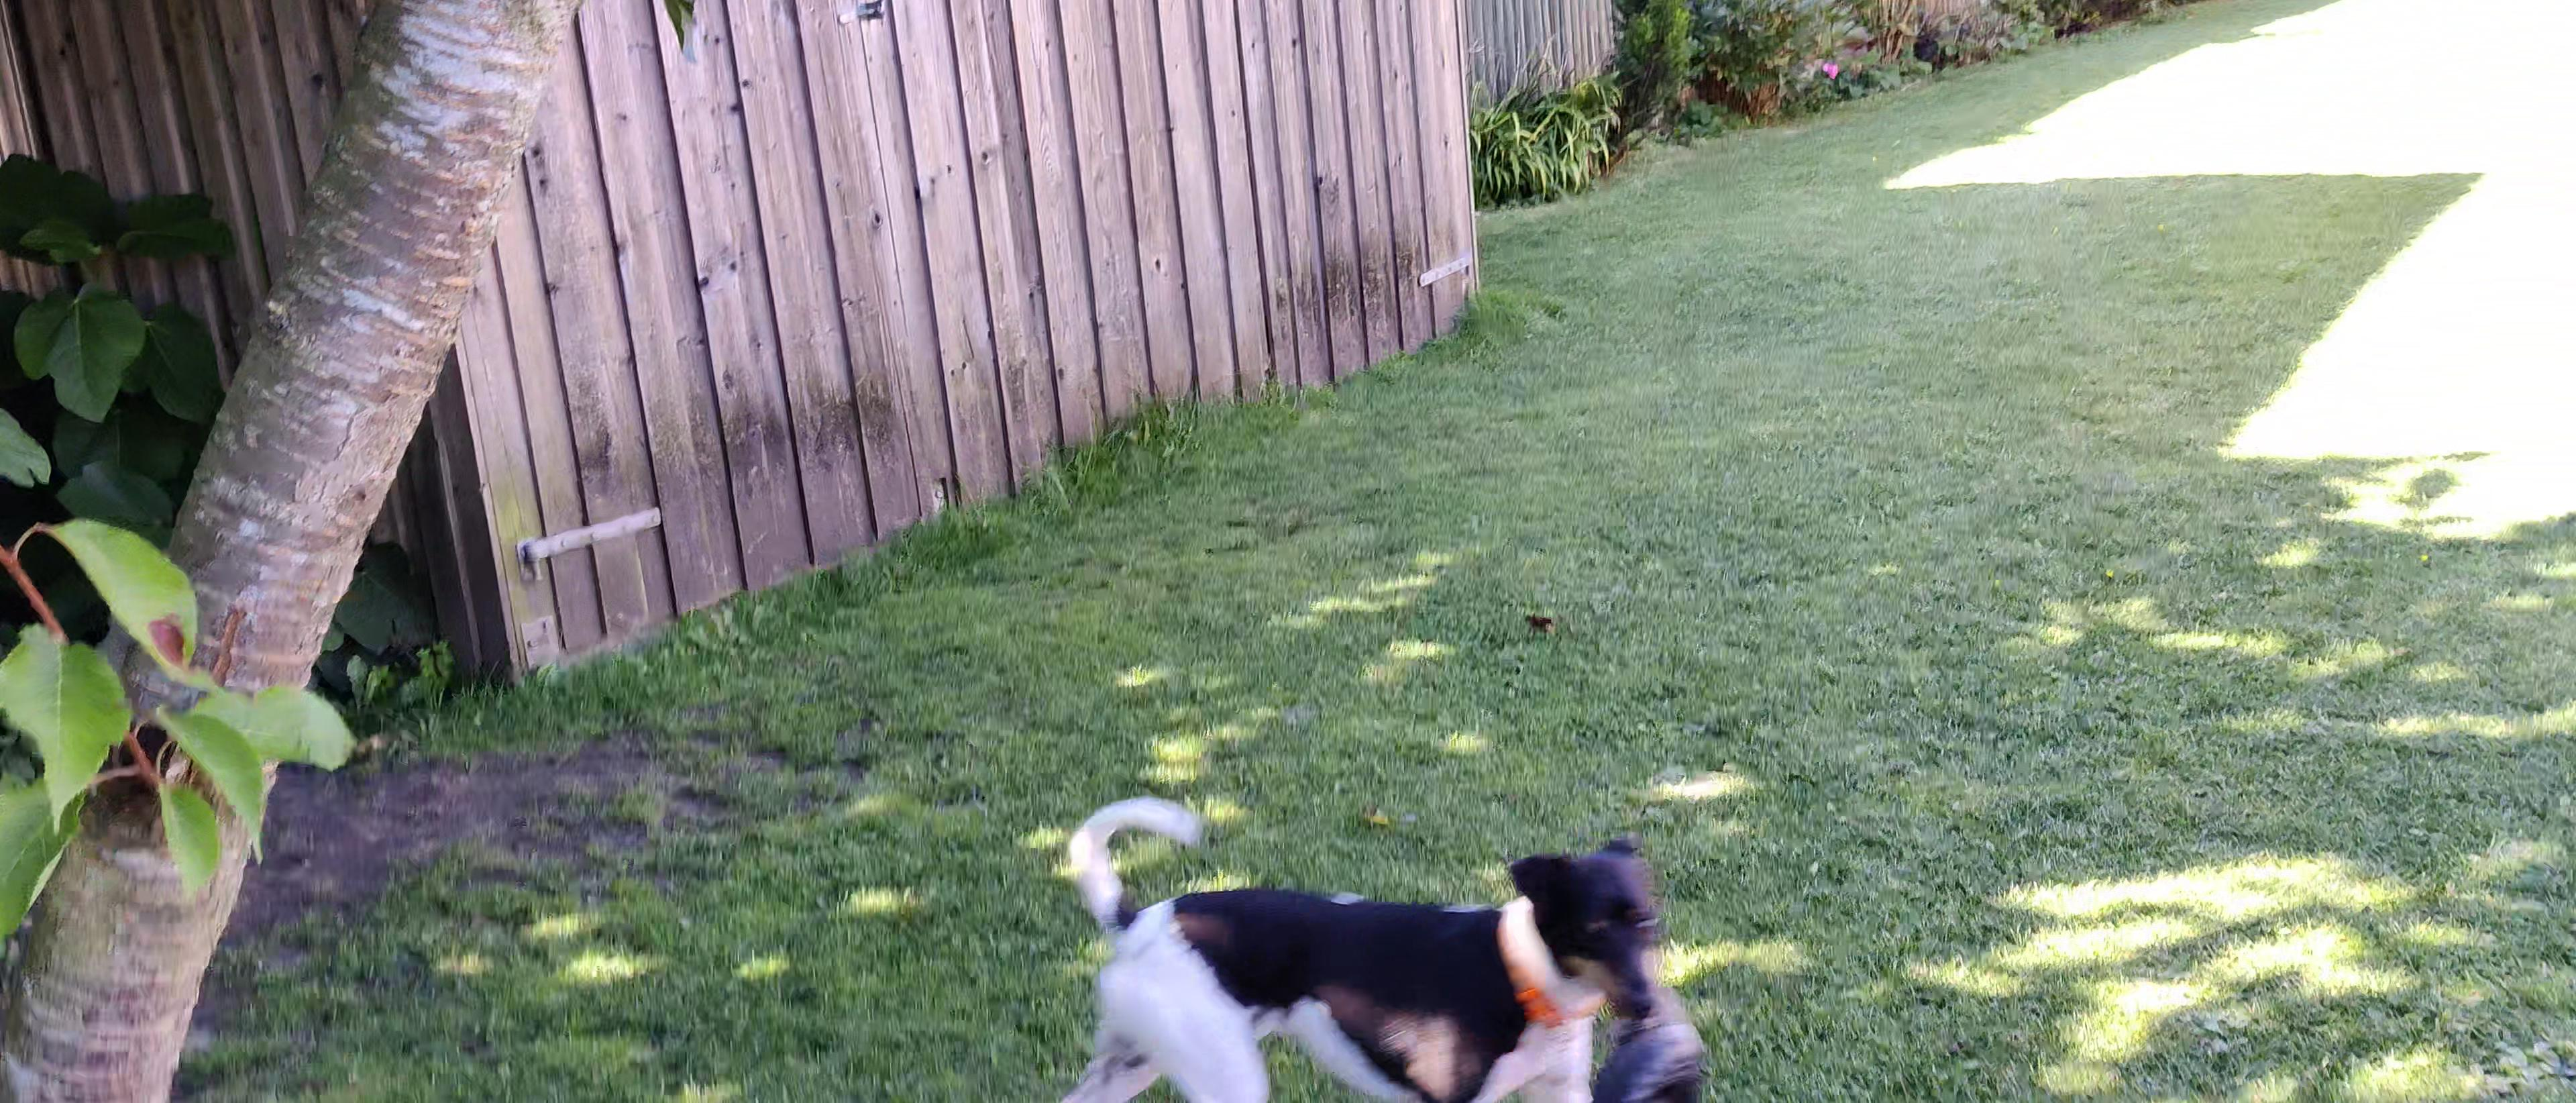Dog: (1060, 786, 1669, 1103)
